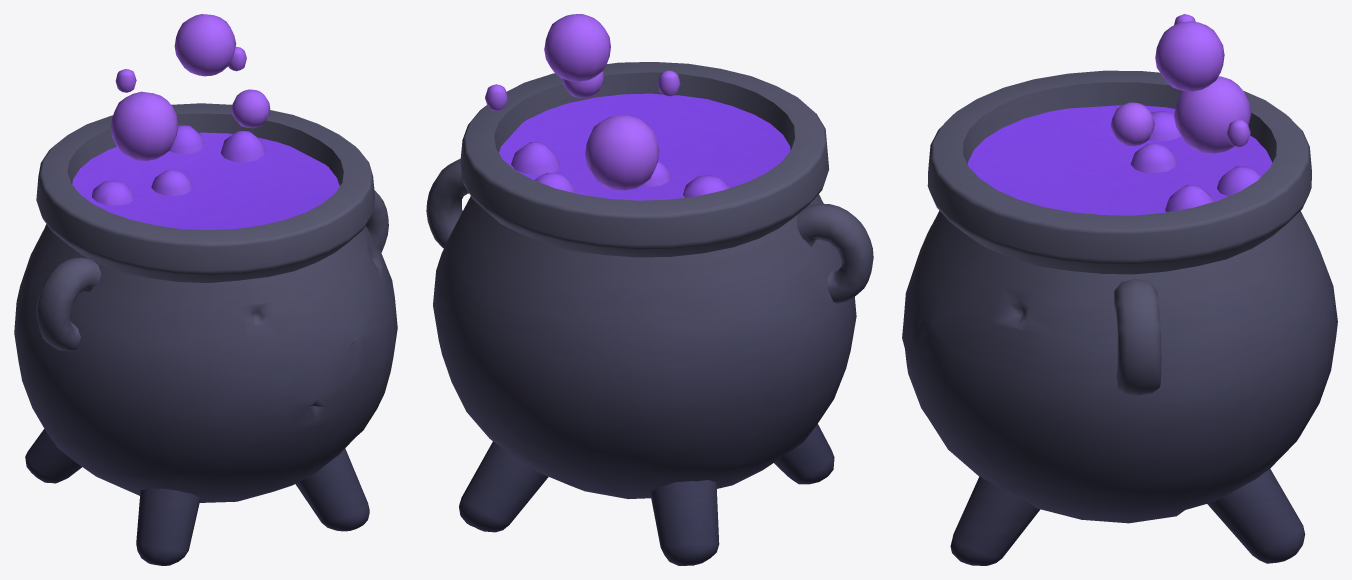
Rendered from WBA_Witch_Cauldron_Medium_01.fbx.
The picture shows the model from 3 angles, left to right: view 1: azimuth 30°, elevation 25°; view 2: azimuth 150°, elevation 25°; view 3: azimuth 270°, elevation 25°; orthographic projection. The views are drawn at different scales.
Parts seen in each view (by area): view 1: WBA_Witch_Cauldron_Medium_01; view 2: WBA_Witch_Cauldron_Medium_01; view 3: WBA_Witch_Cauldron_Medium_01.
Part boxes in pixels (x1=…): WBA_Witch_Cauldron_Medium_01: x1=14, y1=14, x2=397, y2=565; WBA_Witch_Cauldron_Medium_01: x1=426, y1=14, x2=873, y2=565; WBA_Witch_Cauldron_Medium_01: x1=902, y1=14, x2=1337, y2=565.
Size of the model in its own units: 36.91 by 43.07 by 33.06.
